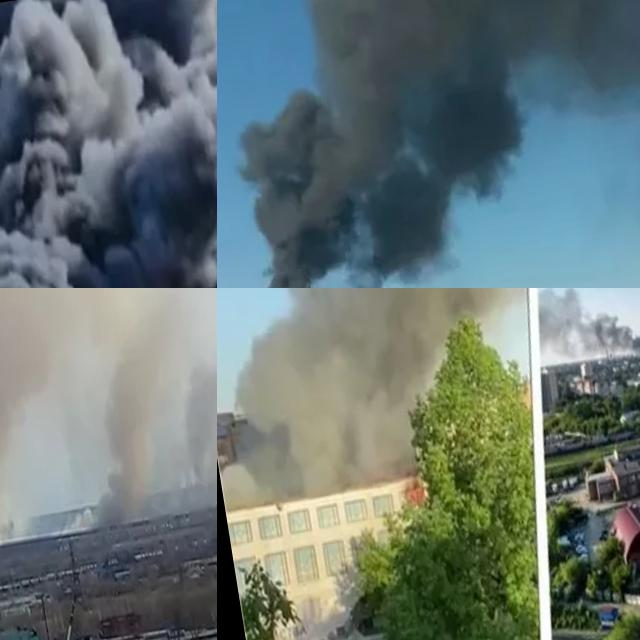smoke: (217, 0, 640, 288), (217, 288, 545, 505), (0, 0, 217, 288), (67, 308, 189, 524), (0, 288, 80, 548), (169, 288, 217, 508), (543, 288, 640, 371)
